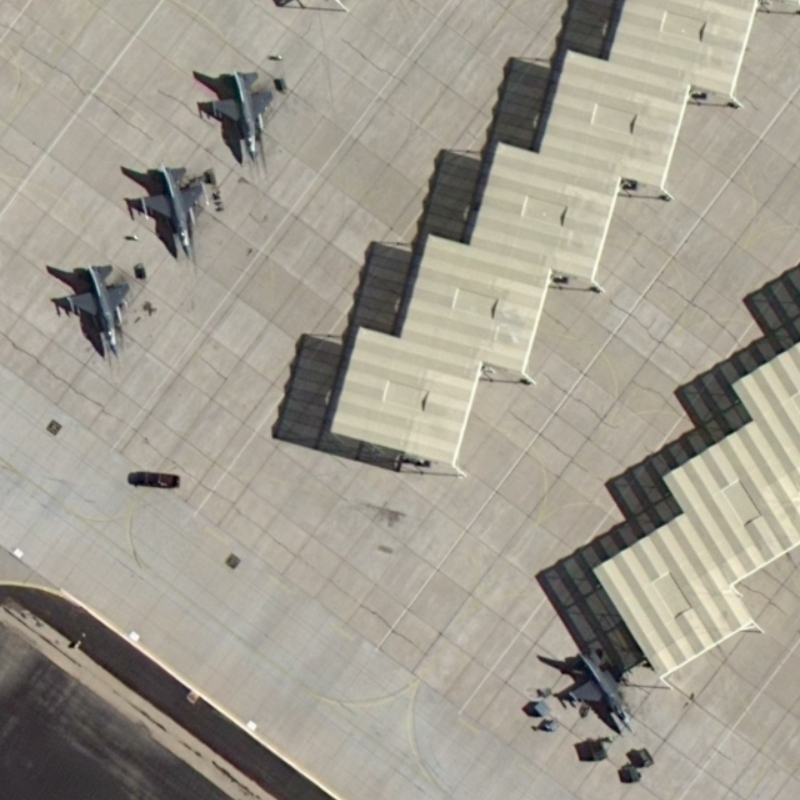A5: (133, 161, 207, 267), (61, 259, 135, 365), (560, 645, 645, 737), (202, 66, 278, 168)
